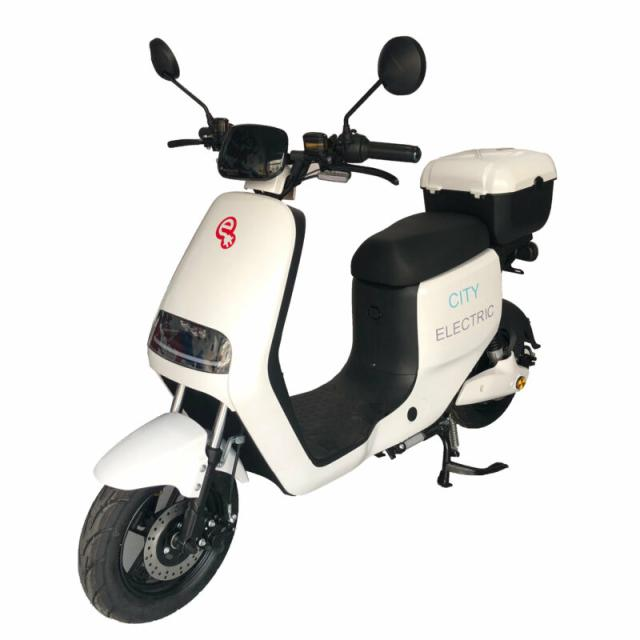Motorcycle: (78, 37, 558, 624)
